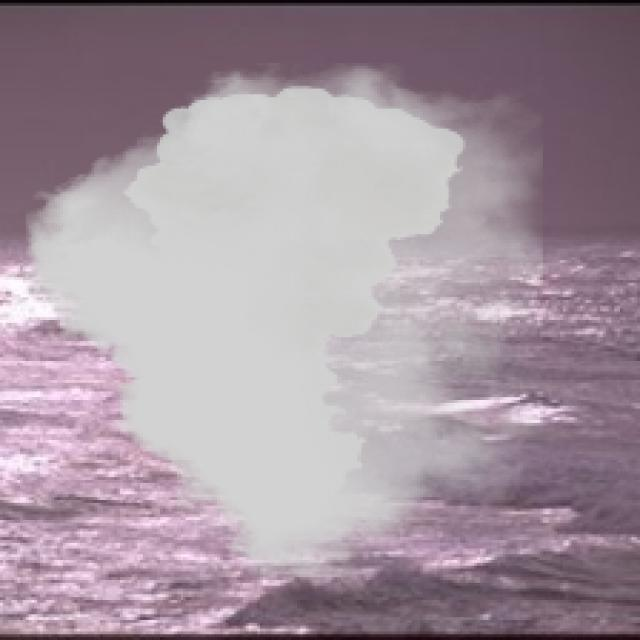Smoke: (26, 62, 543, 578)
